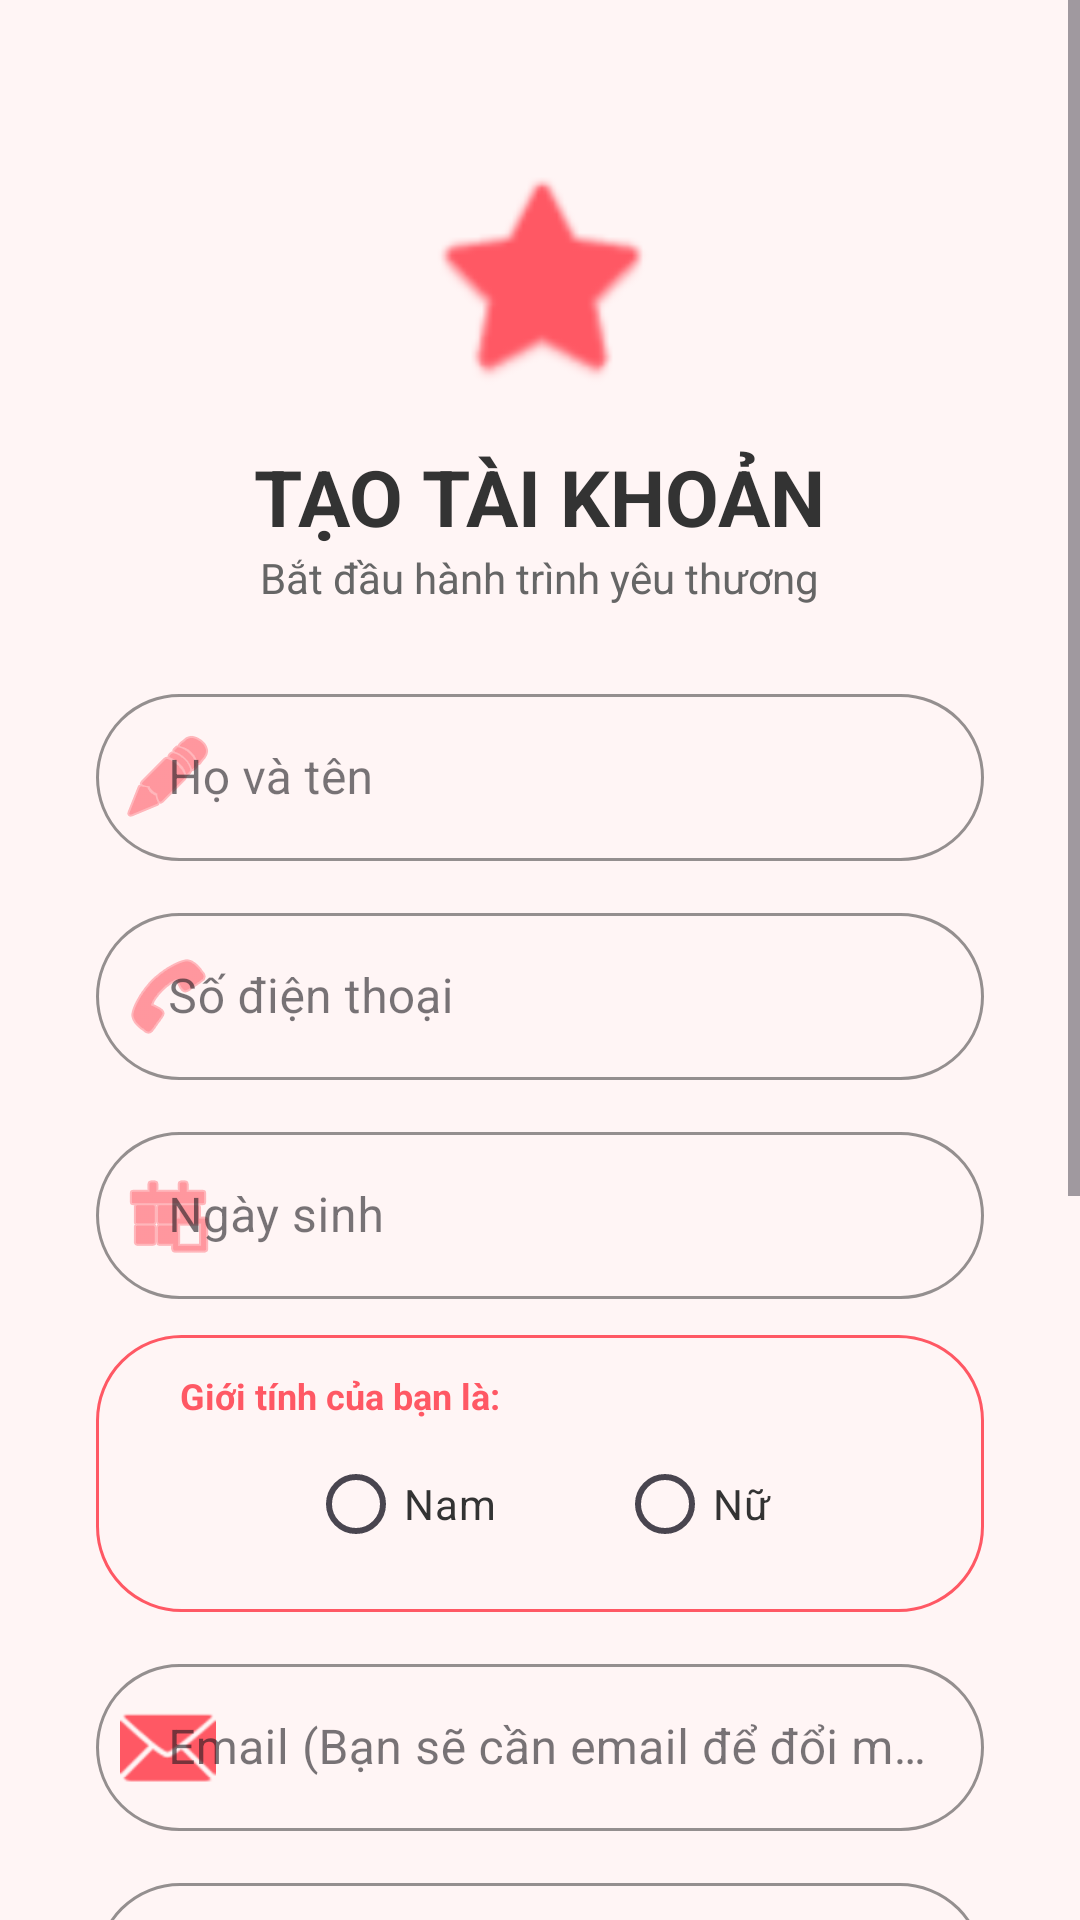

Screen size 1080w x 1920h. Icon name, then its box in pixels as (x1, y1, x2, y2):
star on: (442, 181, 642, 374)
